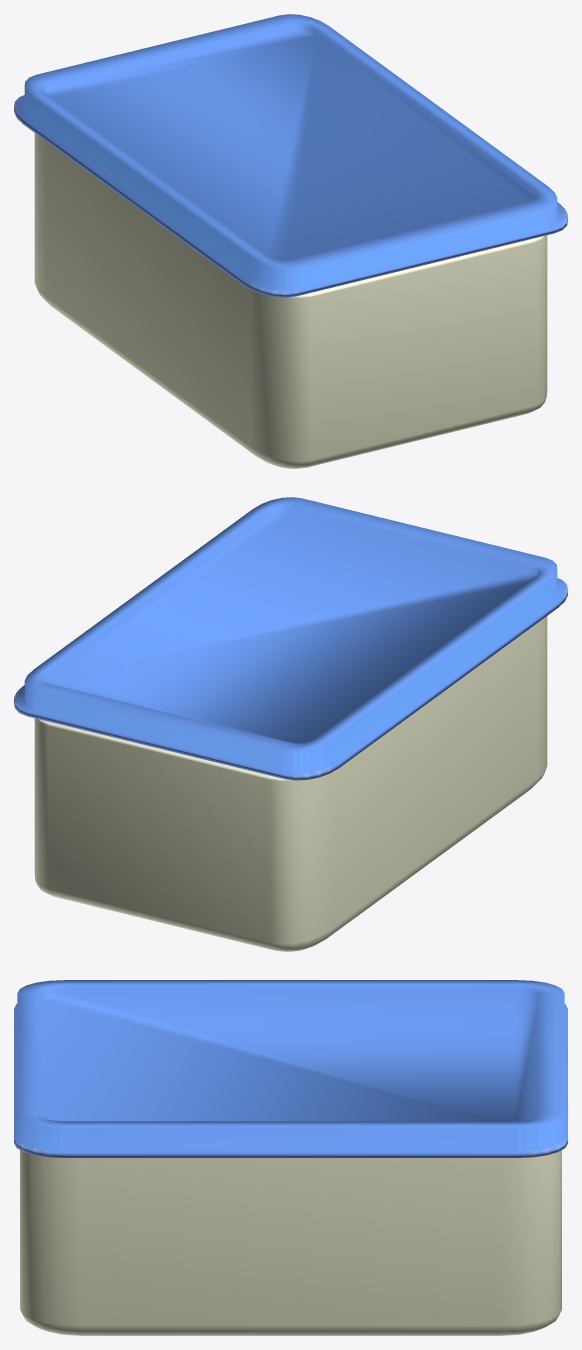
File: Tupperware1.fbx
3 renders of one model, top to bottom at view 1: azimuth 30°, elevation 25°; view 2: azimuth 150°, elevation 25°; view 3: azimuth 270°, elevation 25°, orthographic. The views are drawn at different scales.
Parts seen in each view (by area): view 1: Cube; view 2: Cube; view 3: Cube.
Part boxes in pixels (x1,y1,x2,y2): Cube: [14, 14, 567, 468]; Cube: [14, 497, 567, 951]; Cube: [14, 980, 567, 1335].
Size of the model in its own units: 204 by 132 by 301.
Materials: 1 (1 with a texture image).
